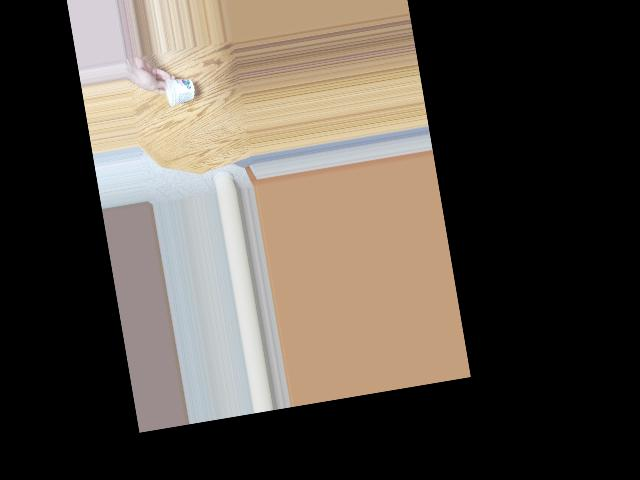cotage: (157, 72, 195, 112)
